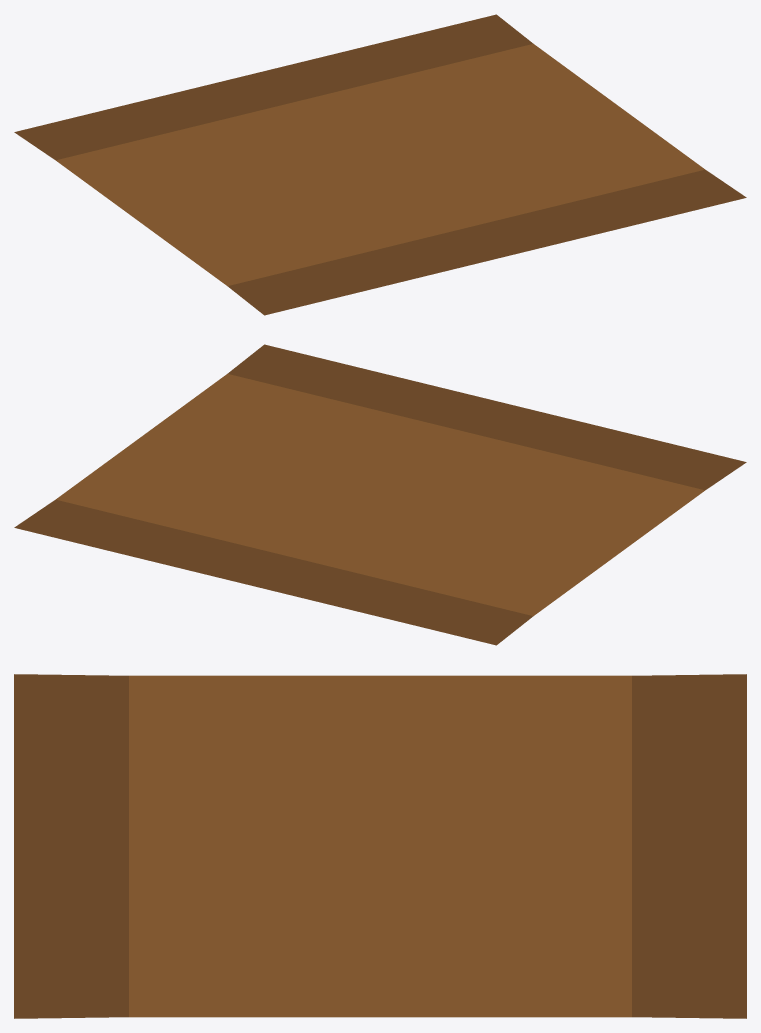
The model's file is roadBasic.glb.
3 renders of one model, top to bottom at view 1: azimuth 30°, elevation 25°; view 2: azimuth 150°, elevation 25°; view 3: azimuth 270°, elevation 25°, orthographic. The views are drawn at different scales.
Parts seen in each view (by area): view 1: Plane; view 2: Plane; view 3: Plane.
Part boxes in pixels (<box>): Plane: <box>14,14,746,315</box>; Plane: <box>14,344,746,645</box>; Plane: <box>14,674,746,1018</box>.
Size of the model in its own units: 15.84 by 0 by 14.24.
